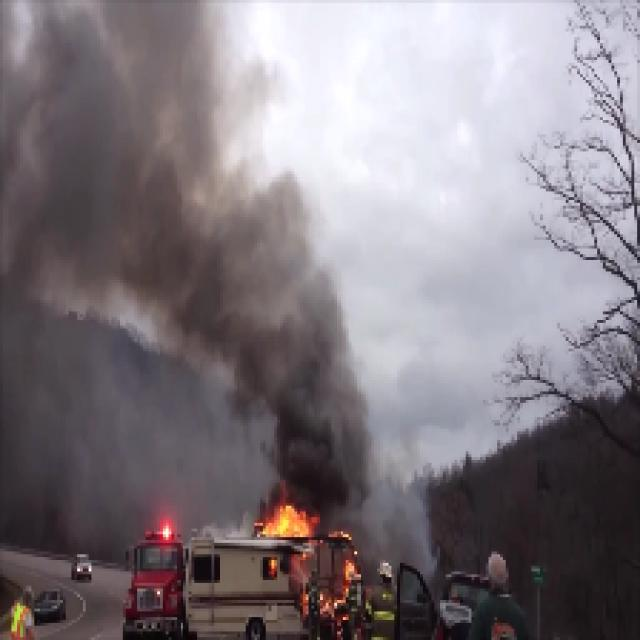fire: (268, 501, 312, 540)
smoke: (29, 77, 175, 295), (188, 182, 262, 358), (270, 326, 351, 480)
